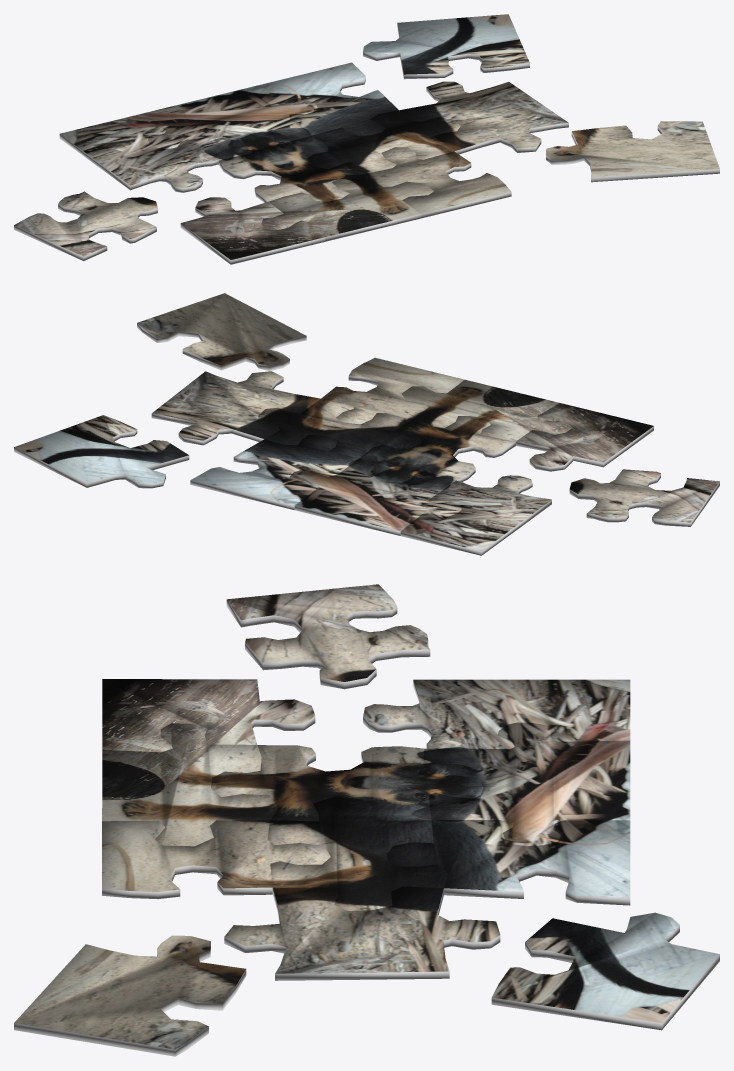
The model's file is puzzle.fbx.
The picture shows the model from 3 angles, top to bottom: view 1: azimuth 30°, elevation 25°; view 2: azimuth 150°, elevation 25°; view 3: azimuth 270°, elevation 25°; orthographic projection. The views are drawn at different scales.
Parts seen in each view (by area): view 1: 12, 4, 2, 8, 1, 10, 3, 6, 9, 5, 11, 7; view 2: 2, 12, 4, 8, 1, 3, 10, 6, 9, 5, 7, 11; view 3: 8, 12, 4, 2, 1, 3, 10, 5, 6, 11, 7, 9.
Part boxes in pixels (left/top/right/bottom): 12: left=546, top=121, right=719, bottom=182; 4: left=363, top=14, right=529, bottom=79; 2: left=141, top=88, right=317, bottom=164; 8: left=399, top=81, right=568, bottom=154; 1: left=59, top=114, right=217, bottom=192; 10: left=261, top=174, right=433, bottom=241; 3: left=248, top=62, right=398, bottom=136; 6: left=218, top=132, right=364, bottom=202; 9: left=180, top=197, right=325, bottom=264; 5: left=14, top=191, right=157, bottom=260; 11: left=365, top=147, right=511, bottom=218; 7: left=307, top=110, right=460, bottom=173; 2: left=289, top=458, right=461, bottom=535; 12: left=137, top=293, right=306, bottom=370; 4: left=14, top=415, right=189, bottom=488; 8: left=151, top=371, right=320, bottom=445; 1: left=400, top=475, right=551, bottom=555; 3: left=190, top=434, right=358, bottom=509; 10: left=401, top=379, right=572, bottom=441; 6: left=359, top=416, right=515, bottom=482; 9: left=516, top=403, right=653, bottom=471; 5: left=569, top=469, right=719, bottom=526; 7: left=258, top=398, right=421, bottom=458; 11: left=321, top=357, right=464, bottom=424; 8: left=224, top=886, right=500, bottom=980; 12: left=14, top=935, right=246, bottom=1056; 4: left=491, top=912, right=719, bottom=1030; 2: left=422, top=722, right=630, bottom=846; 1: left=363, top=679, right=630, bottom=748; 3: left=387, top=820, right=630, bottom=905; 10: left=102, top=723, right=278, bottom=846; 5: left=226, top=584, right=430, bottom=689; 6: left=211, top=745, right=483, bottom=821; 11: left=102, top=820, right=330, bottom=899; 7: left=267, top=796, right=447, bottom=910; 9: left=102, top=679, right=315, bottom=752.
Size of the model in its own units: 4.2 by 0.03 by 2.69.
